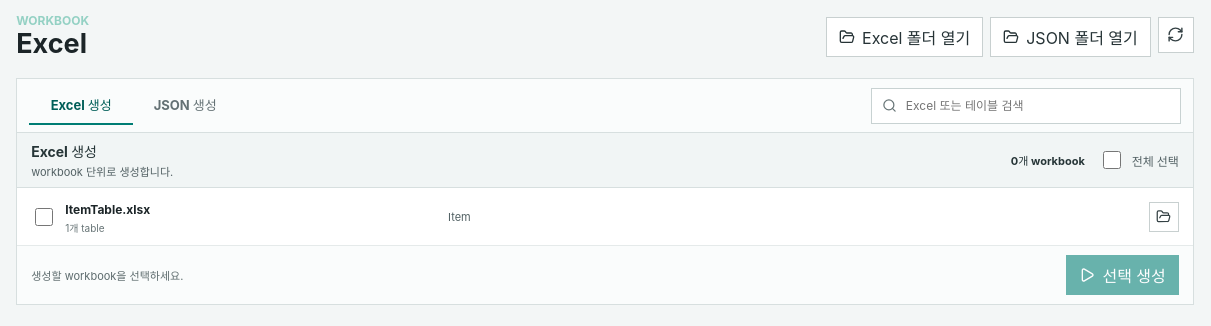
Test case: ExcelScreen collision policy › inspects embedded memo metadata and shows stale changes on the workbook row
Click the tab "JSON 생성" at (185, 106), box [133,86,237,125]
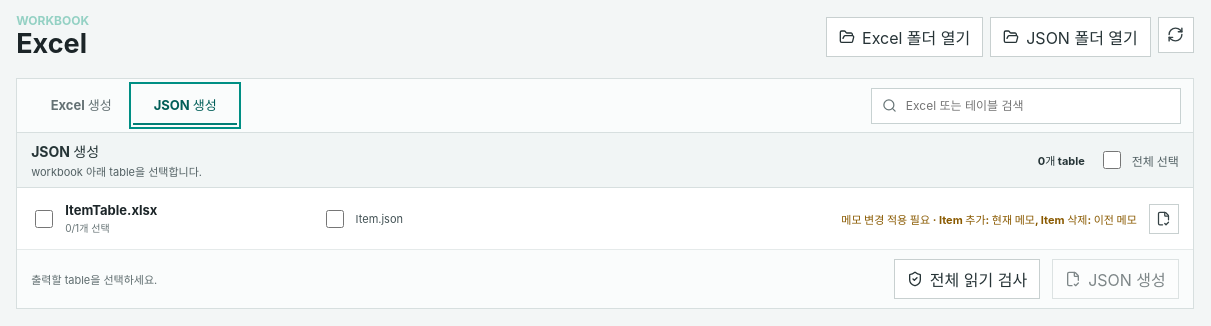
Result: the text "메모 변경 적용 필요 · Item 추가: 현재 메모, Item 삭제: 이전 메모" is shown at [841,211,1137,227]
